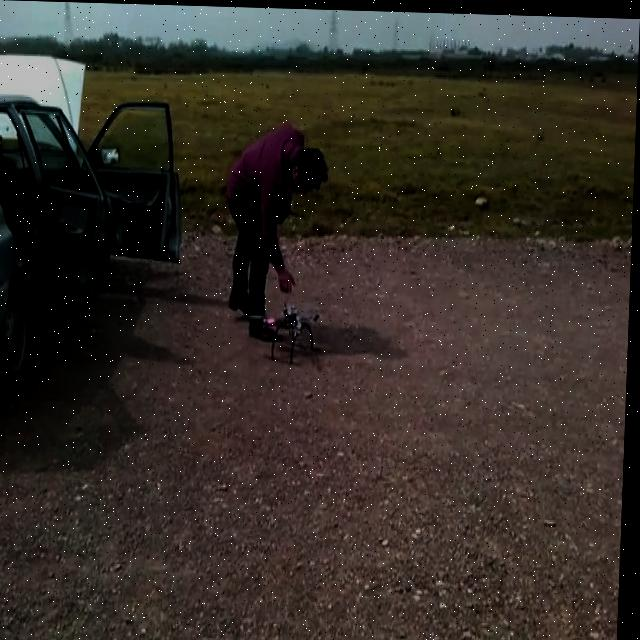drone: (248, 298, 325, 360)
